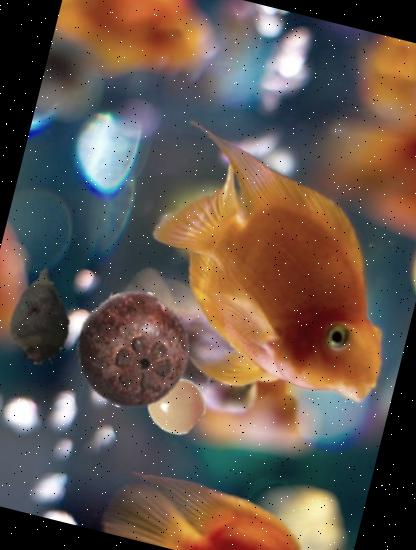Beetroot: (0, 254, 103, 379)
Mangostan: (61, 278, 205, 422)
Physalis: (139, 368, 211, 440)
